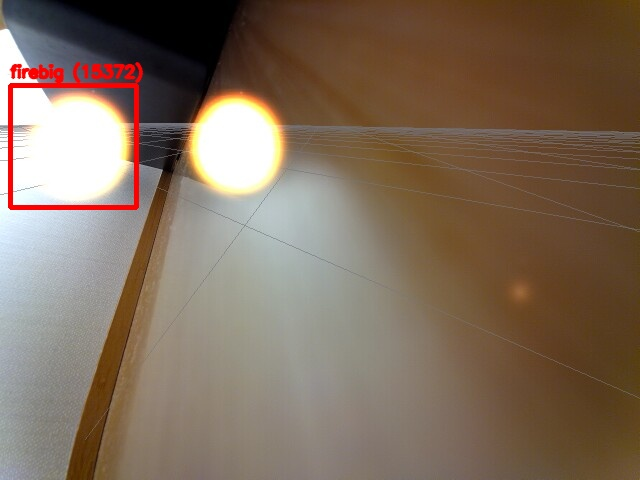firebig: (10, 85, 136, 207)
